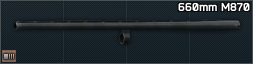M870 12ga 660mm vent rib barrel: (0, 0, 253, 64)
